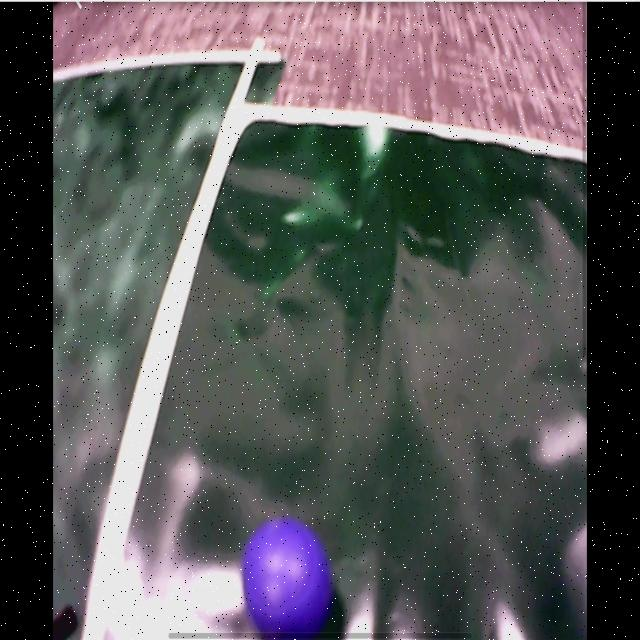ball: (243, 519, 333, 638)
